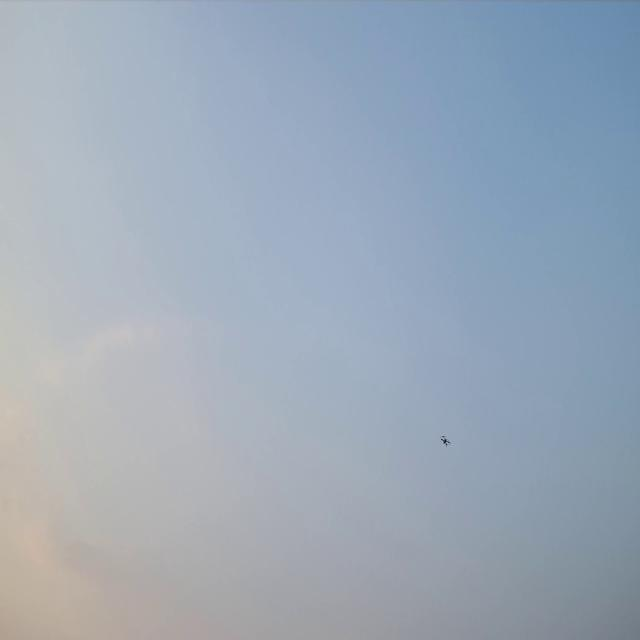UAV: (441, 436, 449, 445)
